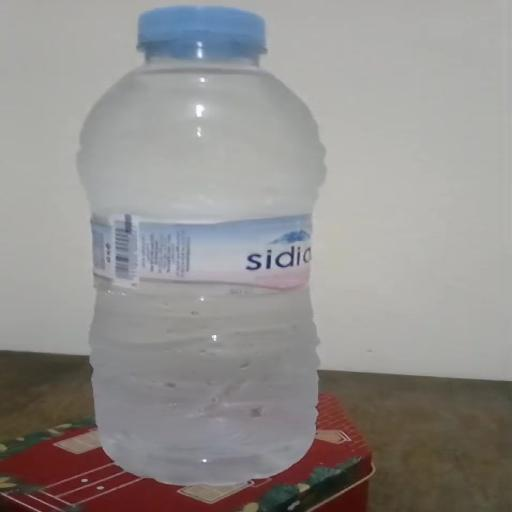bouteille conformite: (64, 0, 334, 485)
